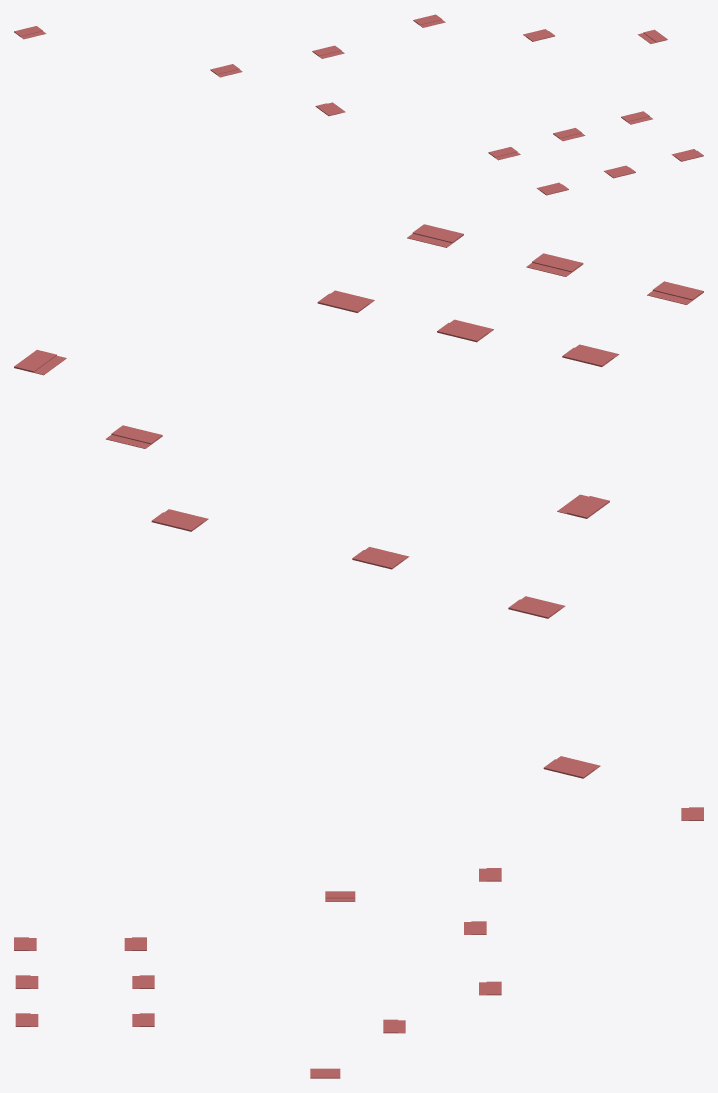
The model's file is object_31_lev1_lev2.glb.
3 renders of one model, top to bottom at view 1: azimuth 30°, elevation 25°; view 2: azimuth 150°, elevation 25°; view 3: azimuth 270°, elevation 25°, orthographic. The views are drawn at different scales.
Parts seen in each view (by area): view 1: object_31_lev1_lev2; view 2: object_31_lev1_lev2; view 3: object_31_lev1_lev2.
Boxes of the visible parts, x1,y1,x2,y2 form: object_31_lev1_lev2: (14,14,703,195); object_31_lev1_lev2: (14,224,703,778); object_31_lev1_lev2: (14,807,703,1078).
Bounding box in the file's own units: 52.88 × 0.0943 × 57.06.
